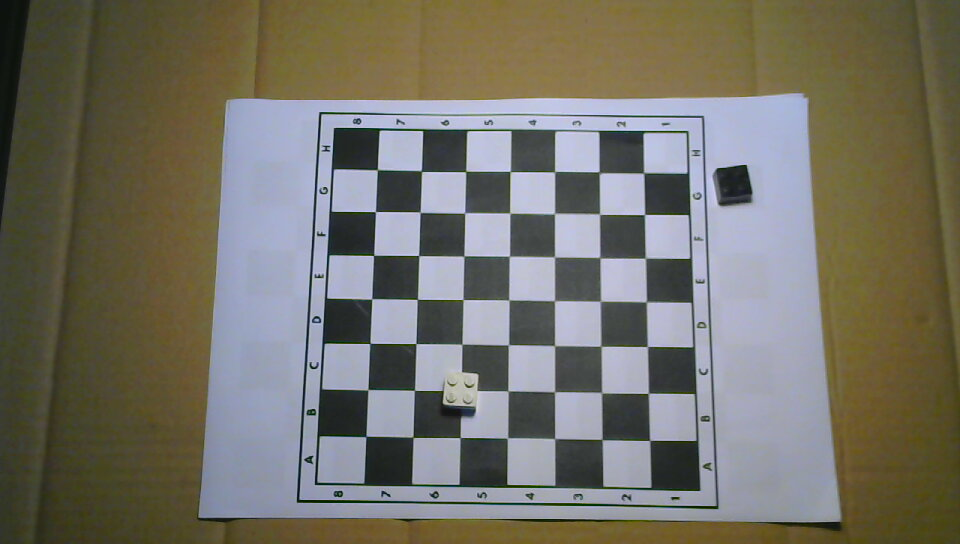bp: (711, 163, 754, 205)
wp: (441, 369, 479, 410)
